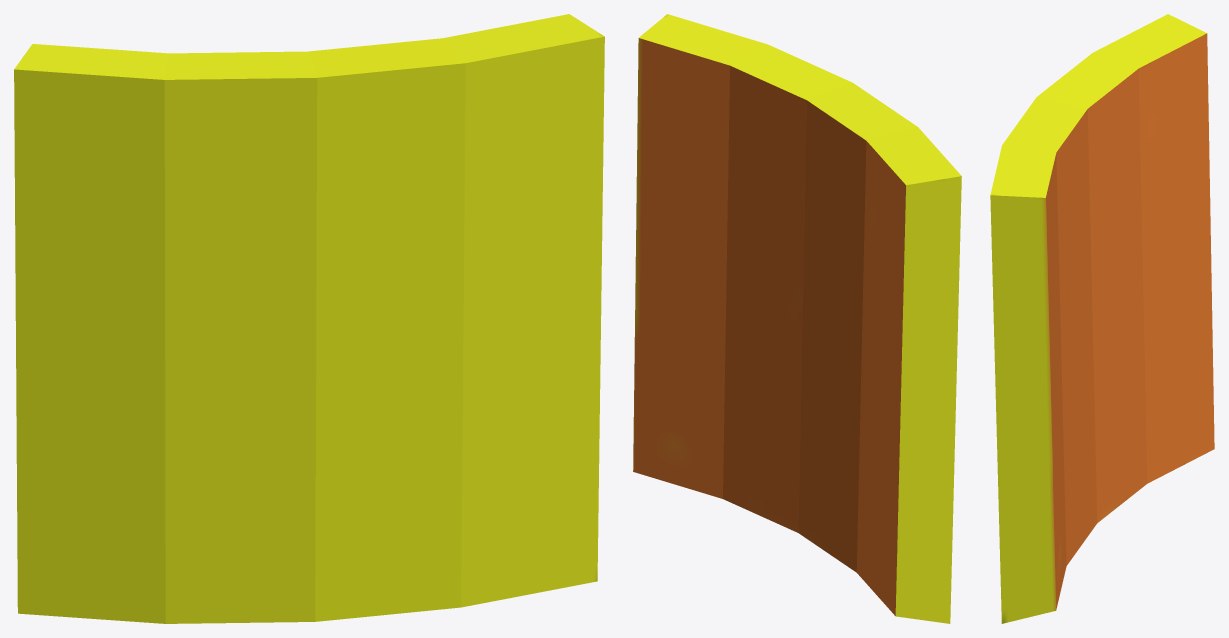
The model's file is Level_1_3.obj.
The picture shows the model from 3 angles, left to right: view 1: azimuth 30°, elevation 25°; view 2: azimuth 150°, elevation 25°; view 3: azimuth 270°, elevation 25°; orthographic projection. The views are drawn at different scales.
Parts seen in each view (by area): view 1: Level_1_3_Cylinder.013; view 2: Level_1_3_Cylinder.013; view 3: Level_1_3_Cylinder.013.
Part boxes in pixels (left/top/right/bottom): Level_1_3_Cylinder.013: left=14, top=14, right=604, bottom=623; Level_1_3_Cylinder.013: left=633, top=14, right=961, bottom=623; Level_1_3_Cylinder.013: left=990, top=14, right=1214, bottom=623.
Bounding box in the file's own units: 1.7 × 1.88 × 0.8892.
